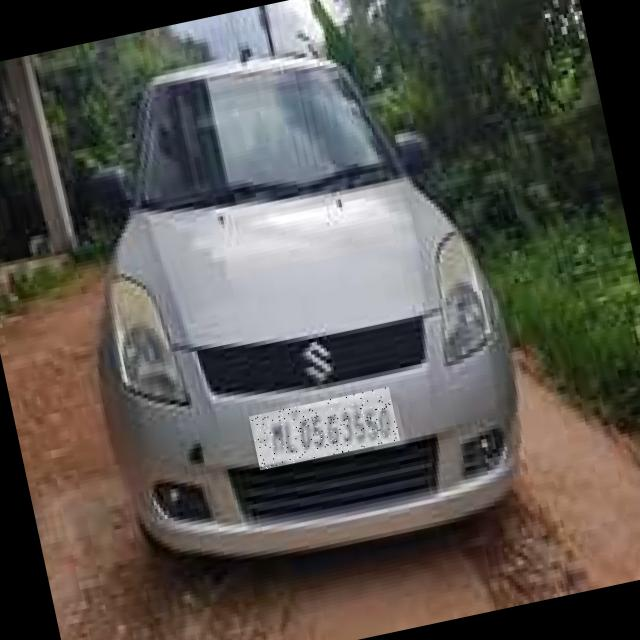Plate: (250, 387, 401, 471)
